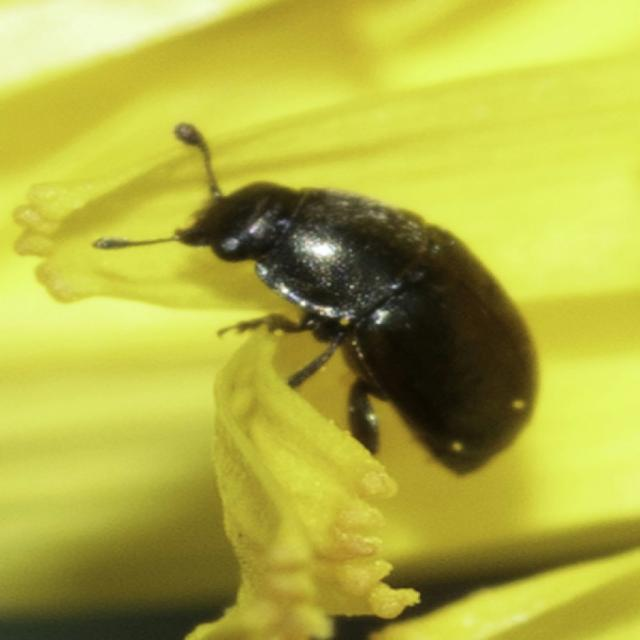pollen_beetle: (70, 109, 550, 489)
